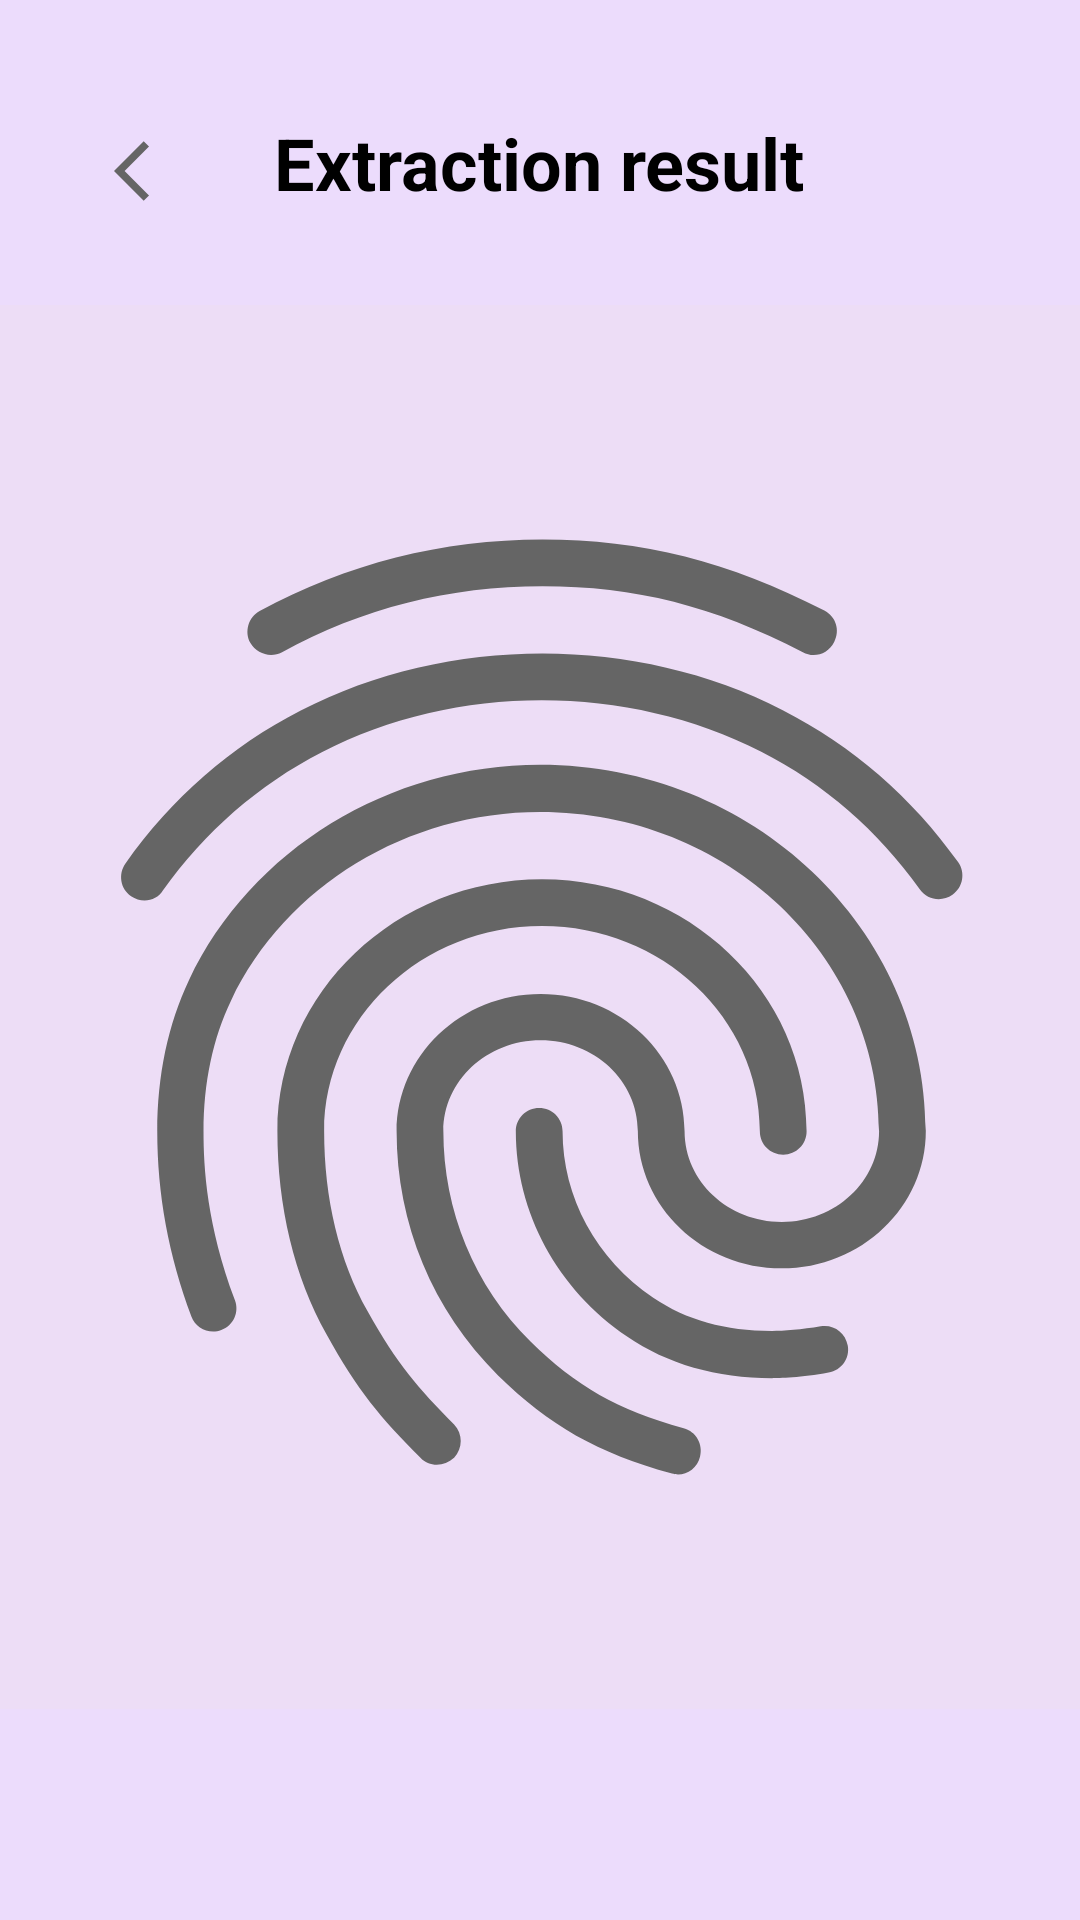

Screen size 1080w x 1920h. Icon name, then its center in pixels as [x,y]:
back arrow: [131,171]
